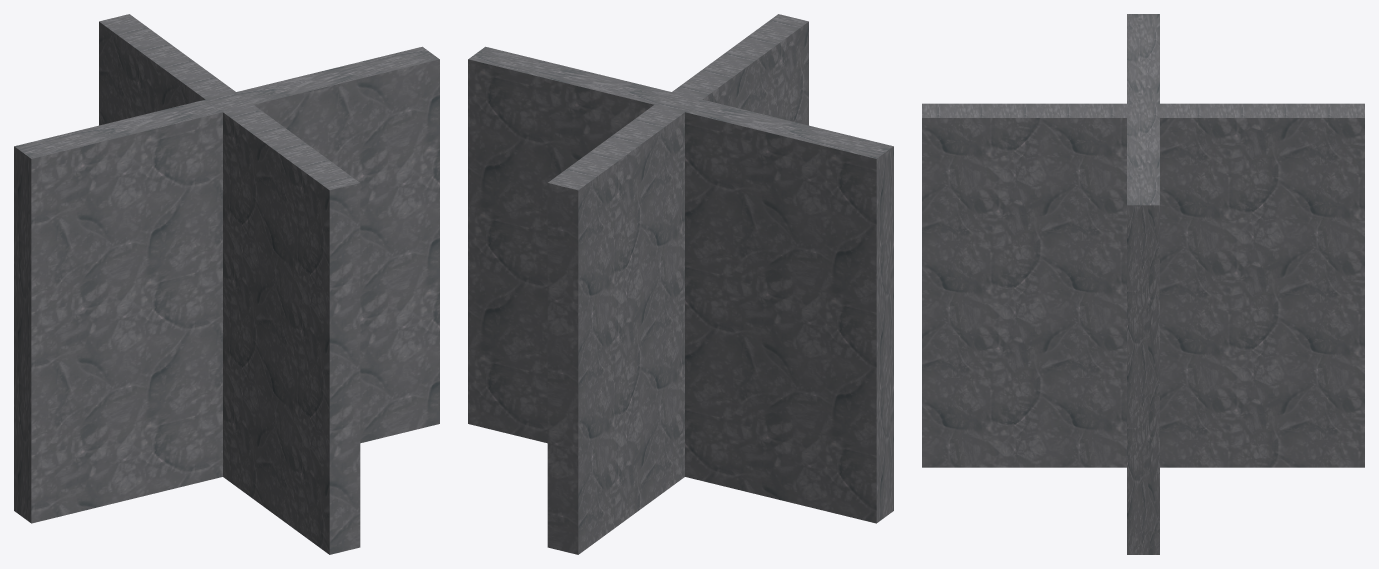
Rendered from Loop_Door.obj.
3 renders of one model, left to right at view 1: azimuth 30°, elevation 25°; view 2: azimuth 150°, elevation 25°; view 3: azimuth 270°, elevation 25°, orthographic. The views are drawn at different scales.
Parts seen in each view (by area): view 1: Cube; view 2: Cube; view 3: Cube.
Part boxes in pixels (box(x1,y1,x2,y2)): Cube: box(14, 14, 439, 554); Cube: box(468, 14, 893, 554); Cube: box(922, 14, 1364, 554).
Bounding box in the file's own units: 8.17 × 6.97 × 8.
Materials: 1 (1 with a texture image).
